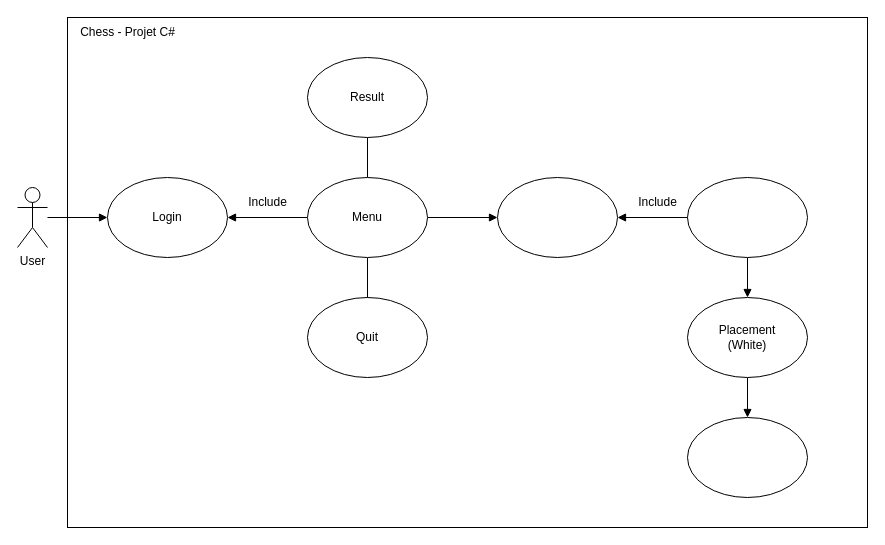
Some shapes in this 885 by 545 pixel diagram are drawn without their labels. The shapes that lost their labels are listed below. From the top down, each one's box as (x1, y1, x2, y2) in pixels, then its label:
(496, 176, 618, 258): Difficulty
(686, 176, 808, 258): Play
(686, 416, 808, 498): Placement (Black)
